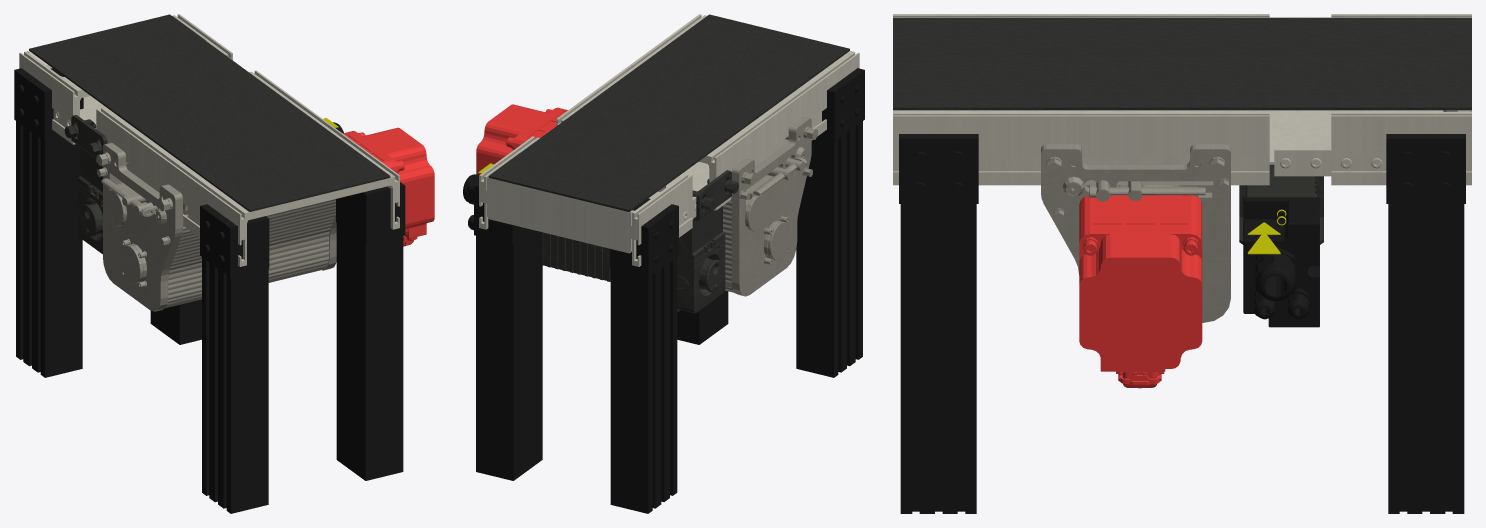
File: ConveyorB3zone.glb
3 renders of one model, left to right at view 1: azimuth 30°, elevation 25°; view 2: azimuth 150°, elevation 25°; view 3: azimuth 270°, elevation 25°, orthographic. The views are drawn at different scales.
Visible parts, largest first — view 1: belt, Copy_of_Unnamed_Node_7.001, Copy_of_Copy_of_Unnamed_Node_8, Mesh_6, Mesh_5.001, Mesh_5, Mesh_9.001, Mesh_0, Mesh_12, Mesh_9, Mesh_11; view 2: belt, Mesh_6, Copy_of_Unnamed_Node_7.001, Mesh_9, Mesh_5.001, Mesh_0, Mesh_5, Mesh_12, Mesh_9.001, Copy_of_Copy_of_Unnamed_Node_8, Mesh_11, Mesh_1; view 3: belt, Mesh_9, Copy_of_Copy_of_Unnamed_Node_8, Mesh_9.001, Mesh_5, Mesh_5.001, Mesh_2.001, Mesh_0, Mesh_1, Mesh_12.
Boxes of the visible parts, x1=… form: belt: x1=29, y1=14, x2=390, y2=211; Copy_of_Unnamed_Node_7.001: x1=200, y1=204, x2=269, y2=513; Copy_of_Copy_of_Unnamed_Node_8: x1=336, y1=182, x2=405, y2=480; Mesh_6: x1=14, y1=68, x2=83, y2=377; Mesh_5.001: x1=96, y1=142, x2=336, y2=311; Mesh_5: x1=96, y1=70, x2=399, y2=266; Mesh_9.001: x1=329, y1=127, x2=434, y2=252; Mesh_0: x1=19, y1=14, x2=232, y2=144; Mesh_12: x1=78, y1=147, x2=102, y2=254; Mesh_9: x1=150, y1=299, x2=201, y2=344; Mesh_11: x1=64, y1=115, x2=107, y2=158; belt: x1=488, y1=14, x2=849, y2=211; Mesh_6: x1=609, y1=198, x2=678, y2=513; Copy_of_Unnamed_Node_7.001: x1=796, y1=68, x2=864, y2=377; Mesh_9: x1=474, y1=182, x2=542, y2=480; Mesh_5.001: x1=723, y1=116, x2=817, y2=296; Mesh_0: x1=479, y1=136, x2=696, y2=266; Mesh_5: x1=556, y1=14, x2=859, y2=210; Mesh_12: x1=542, y1=206, x2=725, y2=313; Mesh_9.001: x1=476, y1=104, x2=567, y2=174; Copy_of_Copy_of_Unnamed_Node_8: x1=677, y1=290, x2=728, y2=344; Mesh_11: x1=677, y1=170, x2=738, y2=312; Mesh_1: x1=488, y1=161, x2=709, y2=253; belt: x1=893, y1=17, x2=1471, y2=110; Mesh_9: x1=1386, y1=134, x2=1465, y2=513; Copy_of_Copy_of_Unnamed_Node_8: x1=899, y1=134, x2=978, y2=513; Mesh_9.001: x1=1079, y1=195, x2=1202, y2=388; Mesh_5: x1=893, y1=14, x2=1269, y2=185; Mesh_5.001: x1=1041, y1=144, x2=1230, y2=322; Mesh_2.001: x1=1243, y1=197, x2=1319, y2=327; Mesh_0: x1=1274, y1=14, x2=1471, y2=185; Mesh_1: x1=1269, y1=110, x2=1443, y2=164; Mesh_12: x1=1245, y1=164, x2=1318, y2=197.
Size of the model in its own units: 0.2312 by 0.23 by 0.3045.
Materials: 11 (4 with a texture image).
